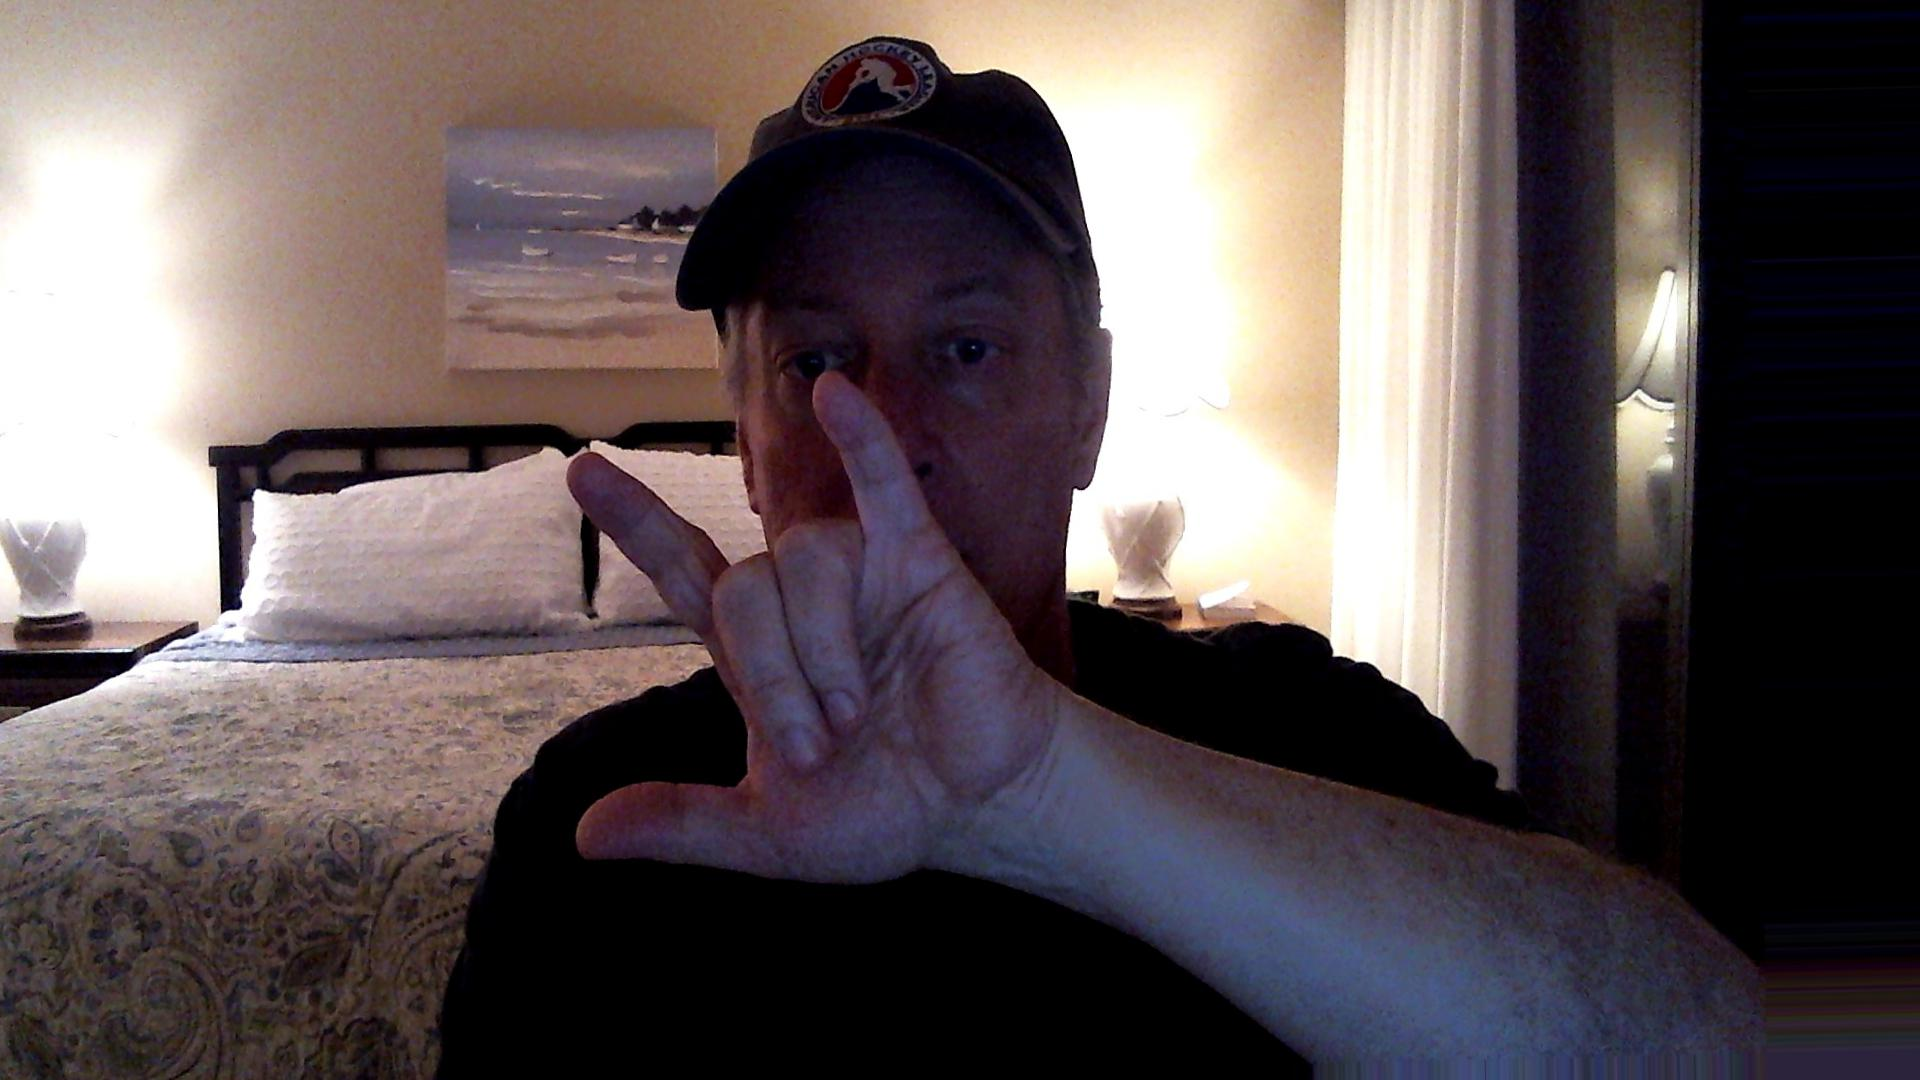I Love You: (527, 353, 1075, 926)
